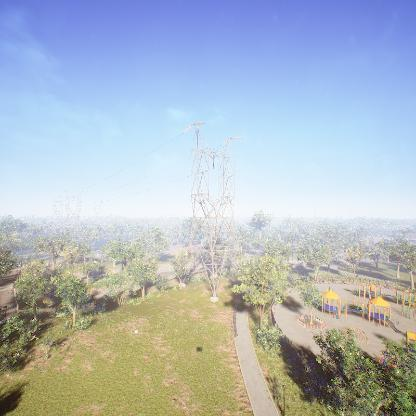tower: (180, 121, 248, 302)
